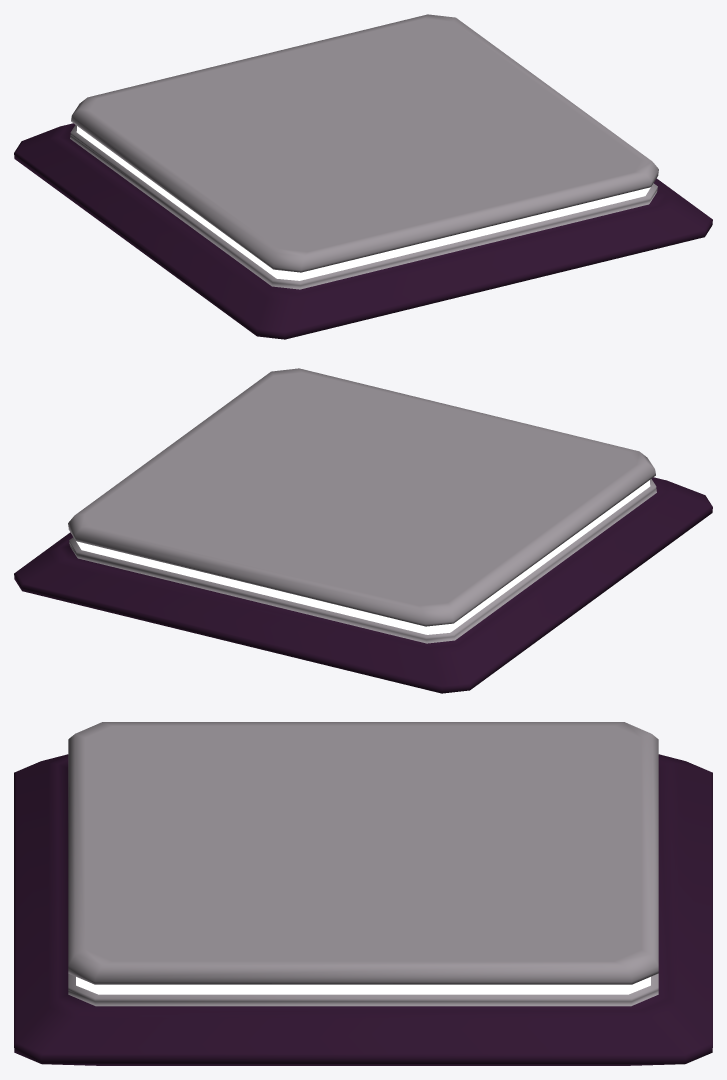
The model's file is MannyBuilding_Grid.glb.
3 renders of one model, top to bottom at view 1: azimuth 30°, elevation 25°; view 2: azimuth 150°, elevation 25°; view 3: azimuth 270°, elevation 25°, orthographic. The views are drawn at different scales.
Visible parts, largest first — view 1: Cube.001; view 2: Cube.001; view 3: Cube.001.
Boxes of the visible parts, x1=… form: Cube.001: x1=14, y1=14, x2=712, y2=339; Cube.001: x1=14, y1=368, x2=712, y2=693; Cube.001: x1=14, y1=722, x2=712, y2=1065.
Bounding box in the file's own units: 2.06 × 0.3266 × 2.06.
